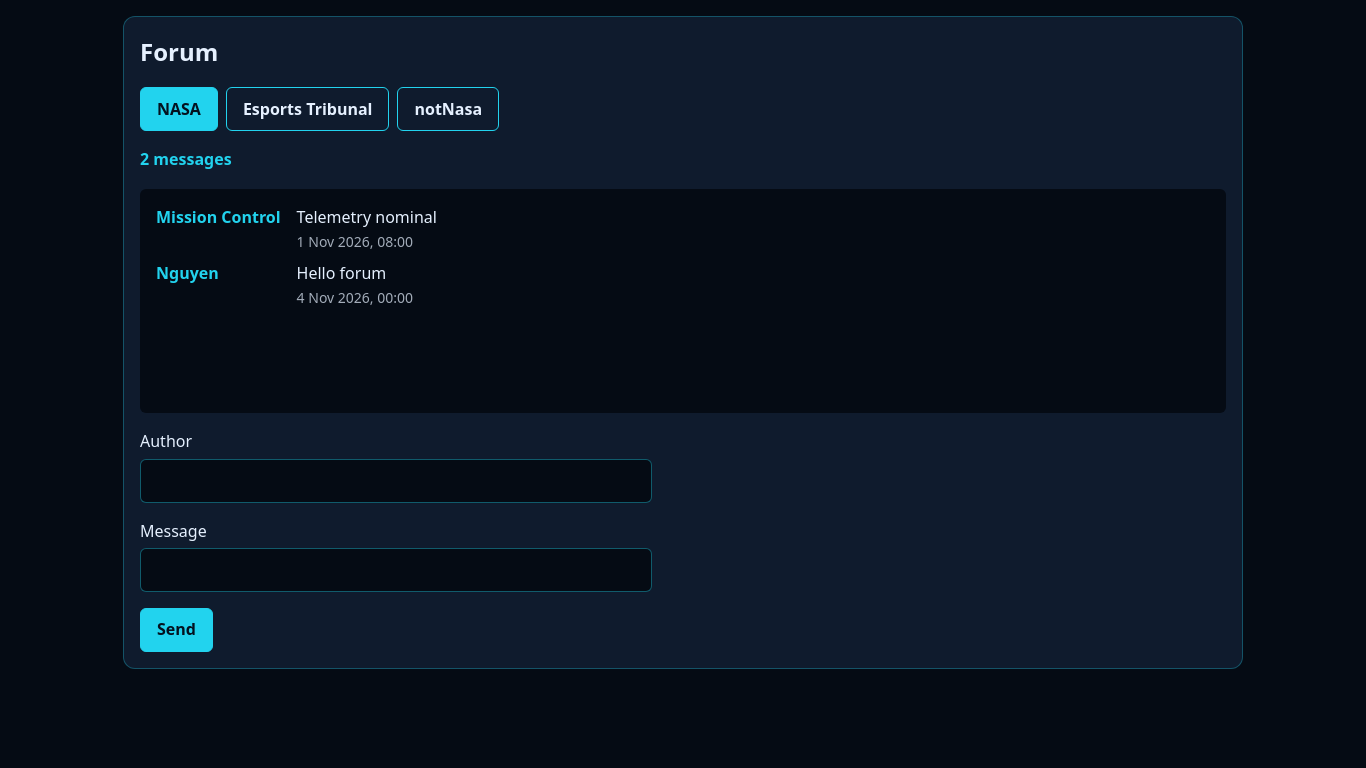
ForumPage › shows the server validation error when sending an empty message
Expected: the text "Telemetry nominal" is shown, [297,206,437,228]
Click the button "Send": [176, 630] box [140,608,213,652]
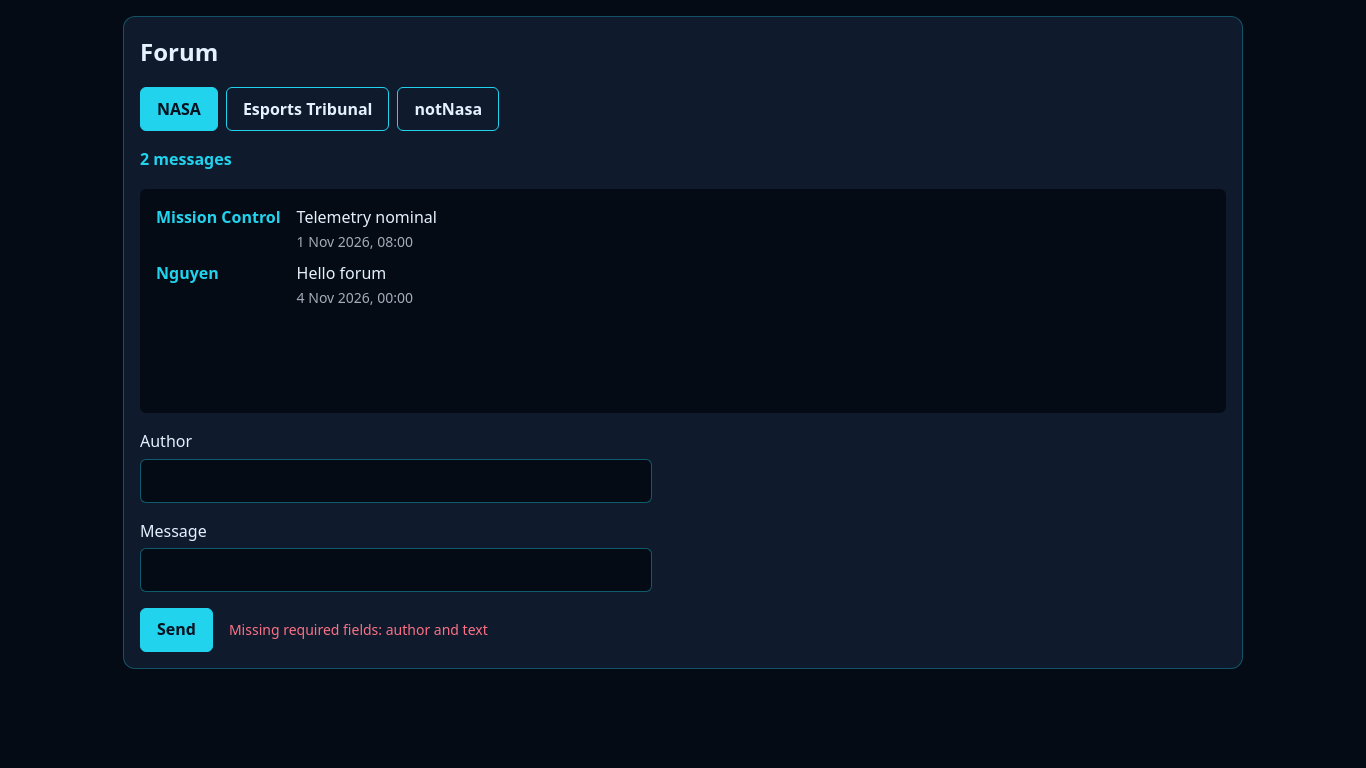
Now the text "Missing required fields: author and text" is shown, box [229,619,488,641]
